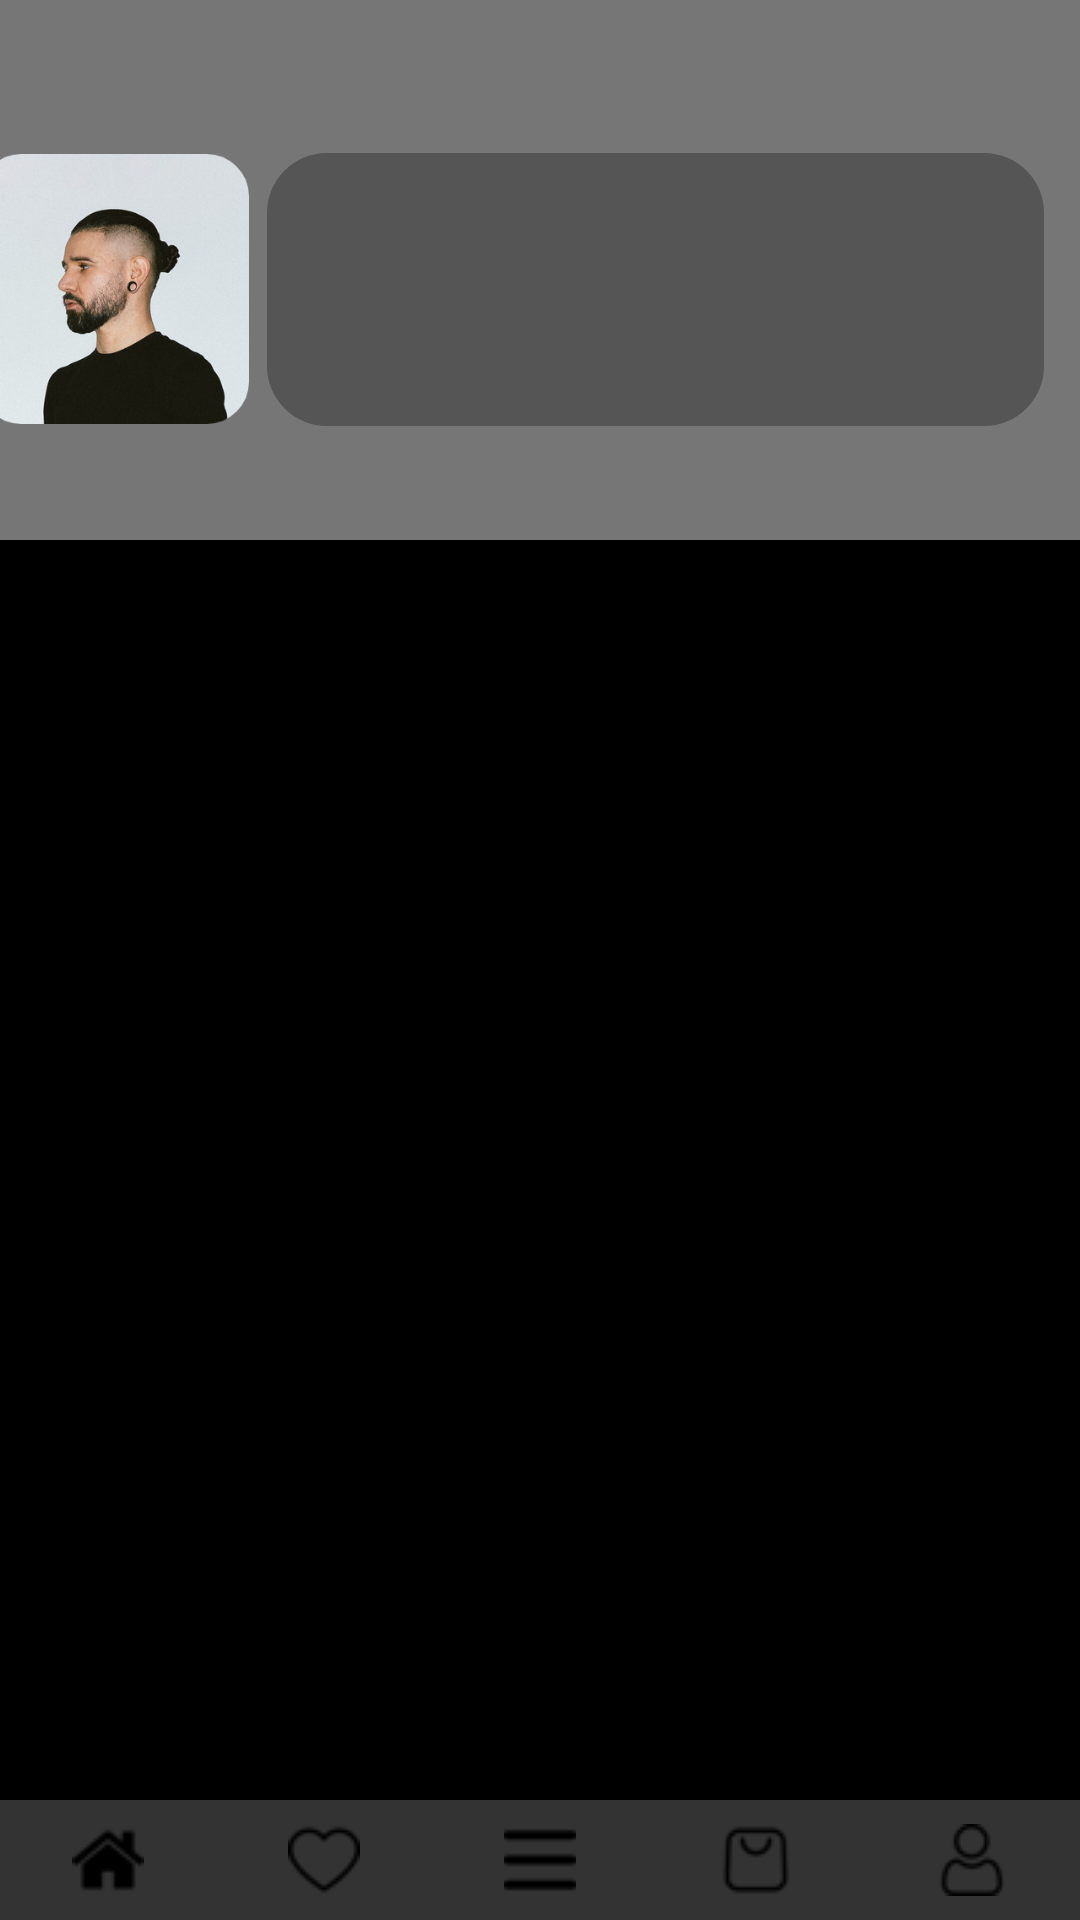

Point at icon controls on the screen. Image size 1080*1920, points as point (x, y).
heartpng: point (324, 1859)
homepng: point (108, 1860)
menupng: point (540, 1860)
shoppingbagpng: point (756, 1860)
userpng: point (972, 1860)
